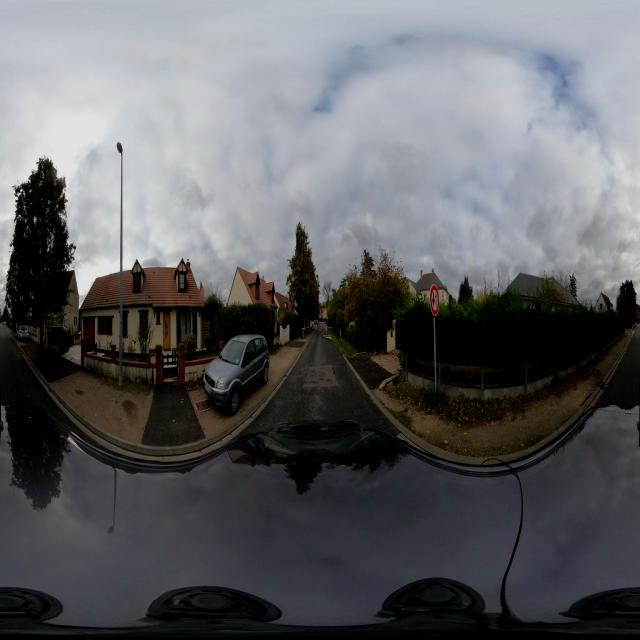car: (203, 333, 269, 415), (17, 323, 30, 342)
